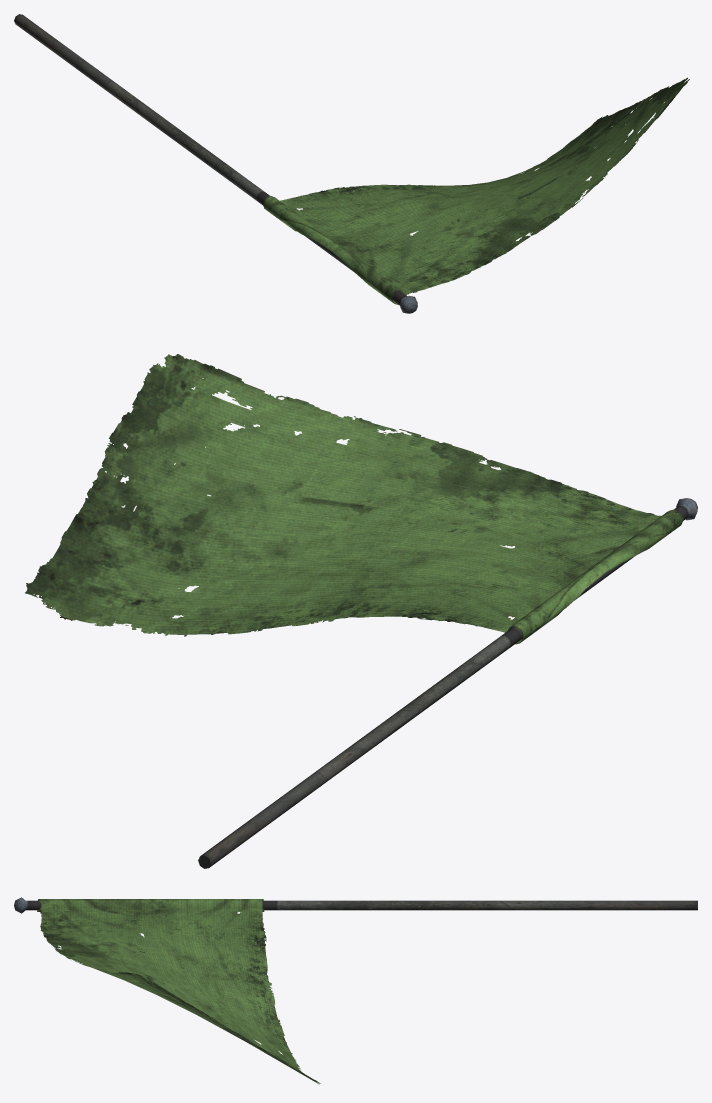
The model's file is mp_flag_green_LOD0.obj.
3 renders of one model, top to bottom at view 1: azimuth 30°, elevation 25°; view 2: azimuth 150°, elevation 25°; view 3: azimuth 270°, elevation 25°, orthographic. The views are drawn at different scales.
Visible parts, largest first — view 1: mtl_flag_green, mtl_mp_flag_base; view 2: mtl_flag_green, mtl_mp_flag_base; view 3: mtl_flag_green, mtl_mp_flag_base.
Boxes of the visible parts, bbox=[...] form: mtl_flag_green: bbox=[262, 77, 689, 304]; mtl_mp_flag_base: bbox=[14, 14, 417, 313]; mtl_flag_green: bbox=[25, 354, 683, 644]; mtl_mp_flag_base: bbox=[198, 498, 697, 868]; mtl_flag_green: bbox=[37, 899, 320, 1084]; mtl_mp_flag_base: bbox=[14, 897, 697, 913].
Size of the model in its own units: 116 by 44.12 by 212.
